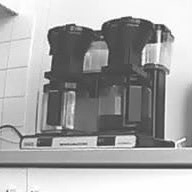not empty coffee: (94, 78, 148, 132)
